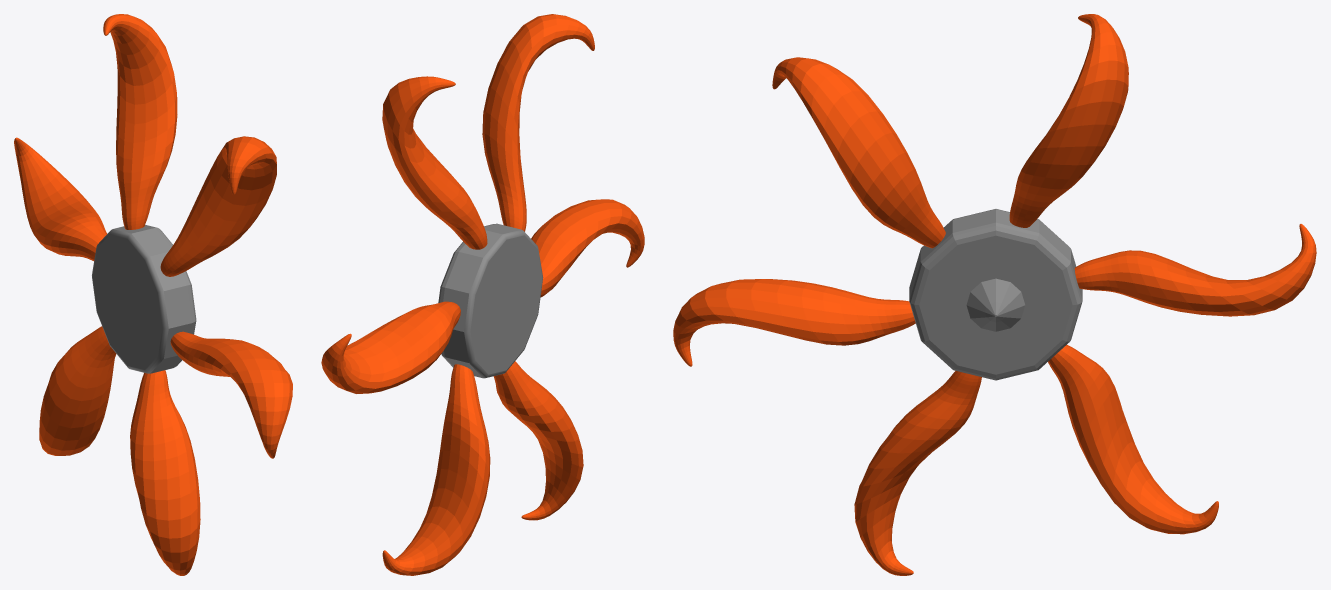
Rendered from obstacle20.fbx.
3 views of the same model, side by side, from view 1: azimuth 30°, elevation 25°; view 2: azimuth 150°, elevation 25°; view 3: azimuth 270°, elevation 25° (orthographic). The views are drawn at different scales.
Parts seen in each view (by area): view 1: obstacle20; view 2: obstacle20; view 3: obstacle20.
Part boxes in pixels (<box>): obstacle20: <box>14,14,292,575</box>; obstacle20: <box>321,14,644,575</box>; obstacle20: <box>673,14,1316,575</box>.
Bounding box in the file's own units: 40.18 × 170 × 174.
